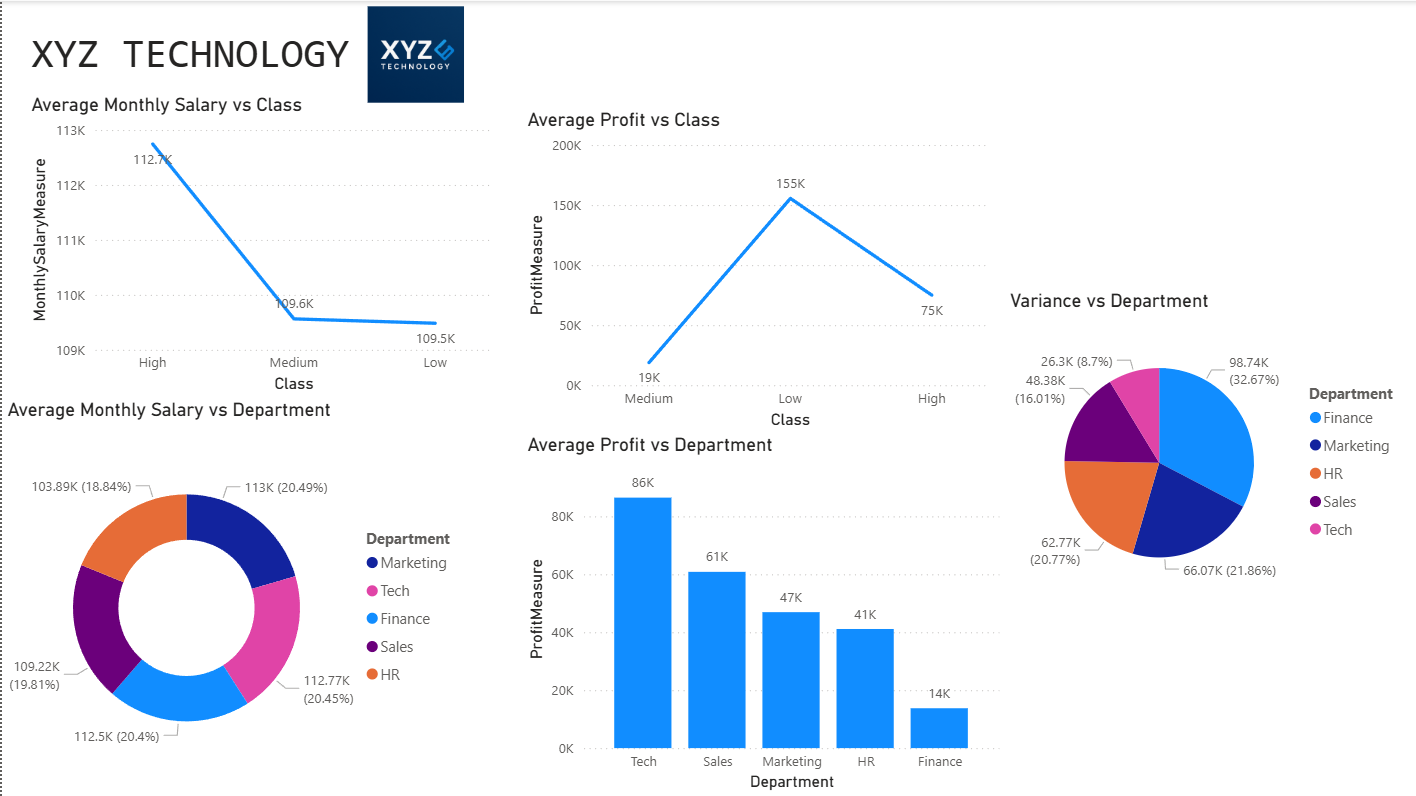

What the dashboard file says about the page in this screenshot:
{"tool":"powerbi","page":{"name":"Monthly Report","canvas":[1280,720],"ordinal":0},"visuals":[{"type":"textbox","box":[21.4,20,348.6,58.6],"z":0},{"type":"lineChart","title":"Average Monthly Salary vs Class","fields":{"Category":["employee_financial_data.Class"],"Y":["employee_financial_data.MonthlySalaryMeasure"]},"box":[22,83.7,426.8,275.8],"z":1000},{"type":"lineChart","title":"Average Profit vs Class","fields":{"Category":["employee_financial_data.Class"],"Y":["employee_financial_data.ProfitMeasure"]},"box":[470,97.1,427.1,294.3],"z":2000},{"type":"donutChart","title":"Average Monthly Salary vs Department","fields":{"Category":["employee_financial_data.Department"],"Y":["employee_financial_data.MonthlySalaryMeasure"]},"box":[0,360,427.1,360],"z":3000},{"type":"columnChart","title":"Average Profit vs Department","fields":{"Category":["employee_financial_data.Department"],"Y":["employee_financial_data.ProfitMeasure"]},"box":[470,391.4,437.1,328.6],"z":4000},{"type":"pieChart","title":"Variance vs Department","fields":{"Category":["employee_financial_data.Department"],"Y":["employee_financial_data.Variance"]},"box":[907,261.6,373.3,294.2],"z":5000},{"type":"image","box":[321.4,0,105.7,97.1],"z":6000}]}

Visuals, with their boxes in screenshot pixels (x1, y1, x2, y2), scaled from the page's 1280x720 canvas onto the 1416x796 screenshot:
textbox: bbox=(24, 22, 409, 87)
"Average Monthly Salary vs Class" lineChart: bbox=(24, 93, 496, 397)
"Average Profit vs Class" lineChart: bbox=(520, 107, 992, 433)
"Average Monthly Salary vs Department" donutChart: bbox=(0, 398, 472, 795)
"Average Profit vs Department" columnChart: bbox=(520, 433, 1003, 795)
"Variance vs Department" pieChart: bbox=(1003, 289, 1415, 614)
image: bbox=(356, 0, 472, 107)
